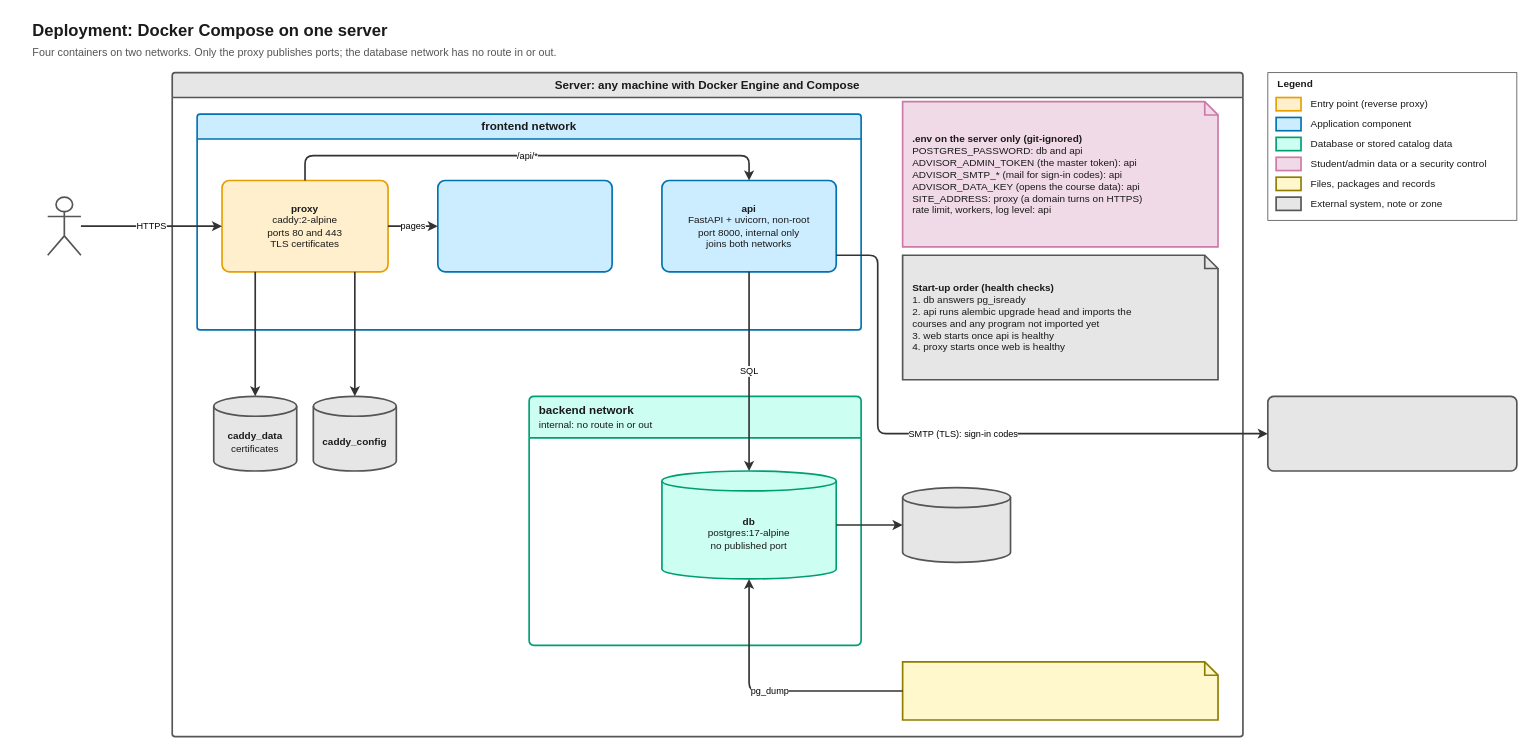
Image size: 1532x751. Some labels were removed from this diagram. The shapes that lost their labels are listed below. From the top down, each one's centre as x and y in pixels, then its label:
At pixel 63 226: "Students and admins".
At pixel 525 225: "web Next.js standalone server port 3000, internal only non-root user".
At pixel 1392 433: "Mail provider AUIB's SMTP relay or a sending service".
At pixel 956 524: "pgdata database files".
At pixel 1059 690: "scripts/backup-db.sh pg_dump to backups/; encrypt before copying off the server".
